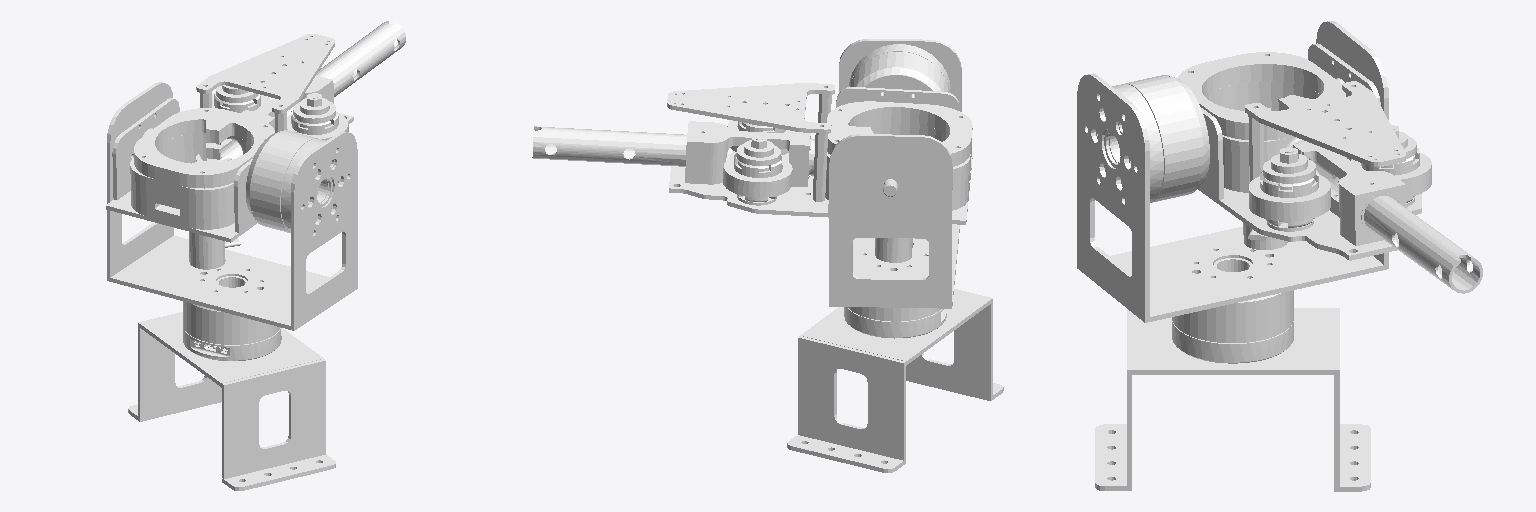
robot.urdf — gimbal_urdf:
<?xml version="1.0" encoding="utf-8"?>
<!-- This URDF was automatically created by SolidWorks to URDF Exporter! Originally created by [author] ([email redacted]) 
     Commit Version: 1.5.1-0-g916b5db  Build Version: 1.5.7152.31018
     For more information, please see http://wiki.ros.org/sw_urdf_exporter -->
<robot name="gimbal_urdf">
  <link name="base_link">
    <inertial>
      <origin xyz="3.15060006090828E-05 -4.71844785465692E-16 -0.0243287063686799" rpy="0 0 0" />
      <mass value="1.28319520304303" />
      <inertia
        ixx="0.000201918308570387"
        ixy="-1.62781063301312E-08"
        ixz="2.49360244993981E-08"
        iyy="8.47758736521156E-05"
        iyz="-1.0029928886675E-18"
        izz="0.000189481579220275" />
    </inertial>

    <visual>
        <origin xyz="0 0 0" rpy="0 0 0" />
      <geometry>
        <mesh filename="package://gimbal_urdf/meshes/base_link.STL" />
      </geometry>
      	<material name=""> <color rgba="1 1 1 1" />
      </material>
    </visual>

    <collision>
      <origin xyz="0 0 0" rpy="0 0 0" />
      <geometry>
        <mesh filename="package://gimbal_urdf/meshes/base_link.STL" />
      </geometry>
    </collision>
  </link>

  <link name="yaw_Link">
    <inertial>
      <origin xyz="8.4734916297402E-05 -0.0210567199604467 0.0350192020002941" rpy="0 0 0" />
      <mass value="0.620363041042481" />
      <inertia 
	ixx="0.000635110656697903"
        ixy="2.83927165134778E-07"
        ixz="9.98398801233859E-07"
        iyy="0.000427297748120087"
        iyz="-7.69757745582108E-06"
        izz="0.000601934475765983" />
    </inertial>

    <visual>
      <origin xyz="0 0 0" rpy="0 0 0" />
      <geometry>
        <mesh filename="package://gimbal_urdf/meshes/yaw_Link.STL" />
      </geometry>
      <material name=""> <color rgba="1 1 1 1" />
      </material>
    </visual>

    <collision>
      <origin xyz="0 0 0" rpy="0 0 0" />
      <geometry>
        <mesh filename="package://gimbal_urdf/meshes/yaw_Link.STL" />
      </geometry>
    </collision>
  </link>

  <joint name="yaw_joint" type="continuous">
    <origin xyz="0 0 0.045" rpy="0 0 0.48284" />
    <parent link="base_link" />
    <child link="yaw_Link" />
    <axis xyz="0 0 1" />
    <limit lower="-3" upper="3" effort="0" velocity="0" />
  </joint>

  <link name="pitch_Link">
    <inertial>
      <origin xyz="-0.0500676134301025 0.0342025495228345 -0.0112331653769802" py="0 0 0" />
      <mass value="0.361088560734711" />
      <inertia
        ixx="0.000415536264346438"
        ixy="6.16430097683857E-07"
        ixz="1.18189085240469E-07"
        iyy="0.000230220737721965"
        iyz="1.41772657896547E-05"
        izz="0.000580282454503549" />
    </inertial>

    <visual>
      <origin xyz="0 0 0" rpy="0 0 0" />
      <geometry>
        <mesh filename="package://gimbal_urdf/meshes/pitch_Link.STL" />
      </geometry>
	<material name=""> <color rgba="1 1 1 1" />
      </material>

    </visual>

    <collision>
      <origin xyz="0 0 0" rpy="0 0 0" />
      <geometry>
        <mesh filename="package://gimbal_urdf/meshes/pitch_Link.STL" />
      </geometry>
    </collision>
  </link>

  <joint name="pitch_joint" type="continuous">
    <origin xyz="0 -0.03 0.088" rpy="0.040757 0 -1.5708" />
    <parent link="yaw_Link" />
    <child link="pitch_Link" />
    <axis xyz="1 0 0" />
    <limit lower="-0.785" upper="0.785" effort="0" velocity="0" />
  </joint>

  <link name="zhoucheng_Link">
    <inertial>
      <origin xyz="0.000686124711460026 3.88451282251623E-09 2.54124357841612E-09" rpy="0 0 0" />
      <mass value="0" />
      <inertia
        ixx="2.0562871819405E-07"
        ixy="1.55409882357327E-13"
        ixz="-4.19235151298674E-11"
        iyy="1.80369543345785E-07"
        iyz="-9.48190155873362E-13"
        izz="1.80371953239631E-07" />
    </inertial>

    <visual>
      <origin xyz="0 0 0" rpy="0 0 0" />
      <geometry>
        <mesh filename="package://gimbal_urdf/meshes/zhoucheng_Link.STL" />
      </geometry>
      <material name=""> <color rgba="1 1 1 1" />
      </material>

    </visual>
    <collision>
      <origin xyz="0 0 0" rpy="0 0 0" />
      <geometry>
        <mesh filename="package://gimbal_urdf/meshes/zhoucheng_Link.STL" />
      </geometry>

    </collision>
  </link>

  <joint name="zhoucheng_joint" type="continuous">
    <origin xyz="0 0.07 0.088" rpy="0.040757 0 -1.5708" />
    <parent link="yaw_Link" />
    <child link="zhoucheng_Link" />
    <axis xyz="1 0 0" />
    <limit lower="-0.785" upper="0.785" effort="0" velocity="0" />
  </joint>

</robot>

--- What the picture shows (computed from the rendered views, not written in the file) ---
3 views of the same robot in one strip: view 1: azimuth 30°, elevation 25°; view 2: azimuth 150°, elevation 25°; view 3: azimuth 270°, elevation 25° (orthographic).
Model gimbal_urdf with 4 links and 3 joints (3 continuous), rooted at base_link, posed all joints at 0.
Links seen in each view (by area): view 1: yaw_Link, pitch_Link, base_link; view 2: pitch_Link, yaw_Link, base_link; view 3: yaw_Link, pitch_Link, base_link.
Link boxes in pixels (x1,y1,x2,y2): yaw_Link: [107, 82, 357, 360]; pitch_Link: [106, 21, 405, 269]; base_link: [128, 312, 335, 490]; pitch_Link: [532, 83, 972, 262]; yaw_Link: [829, 39, 961, 338]; base_link: [787, 289, 1003, 472]; yaw_Link: [1077, 21, 1388, 363]; pitch_Link: [1177, 43, 1482, 293]; base_link: [1095, 308, 1370, 491].
Bounding box of the posed robot: 0.2797 × 0.2211 × 0.2382 m (x, y, z).
Meshes: 4 distinct files referenced, 4 mesh visuals loaded (4 binary STL).
